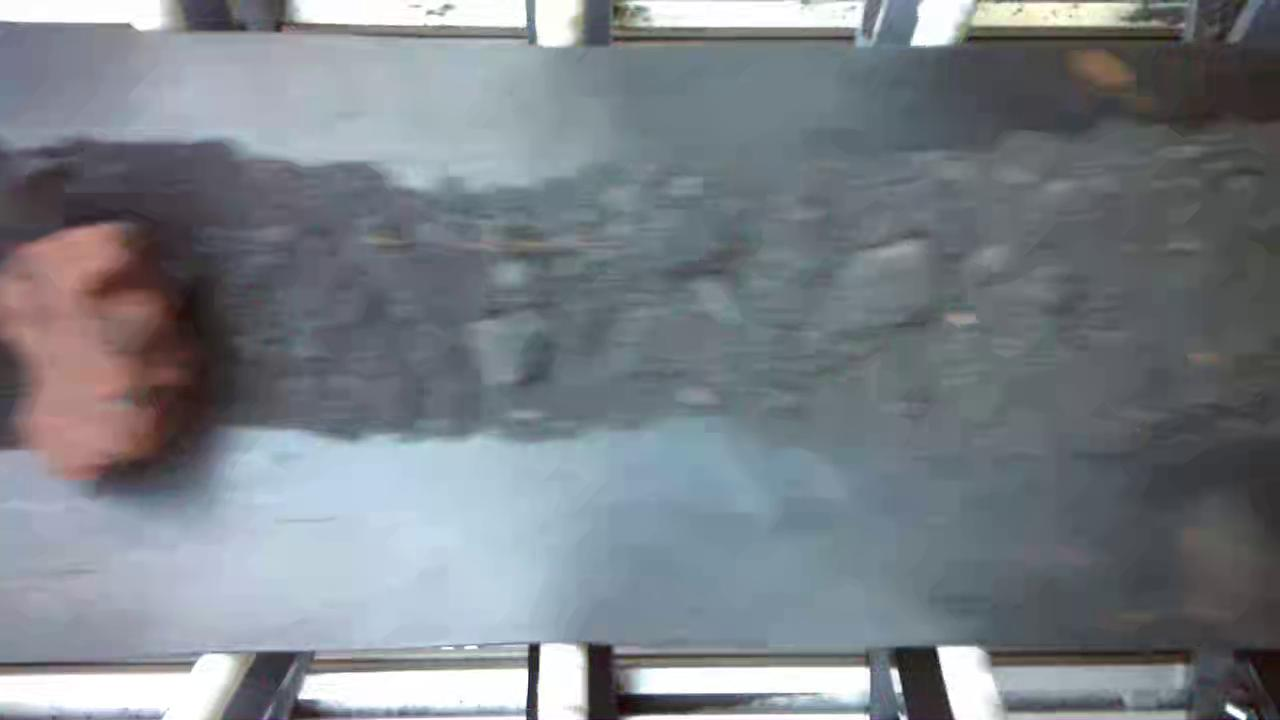conveyor: (5, 51, 1280, 645)
